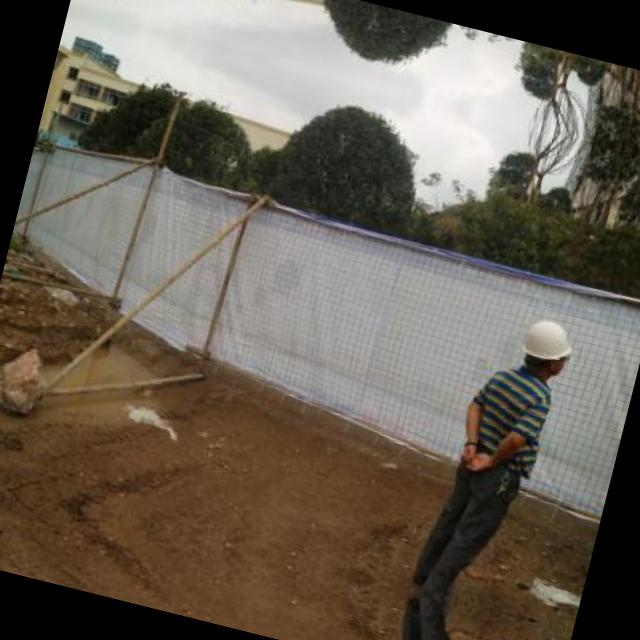helmet: (508, 308, 582, 387)
